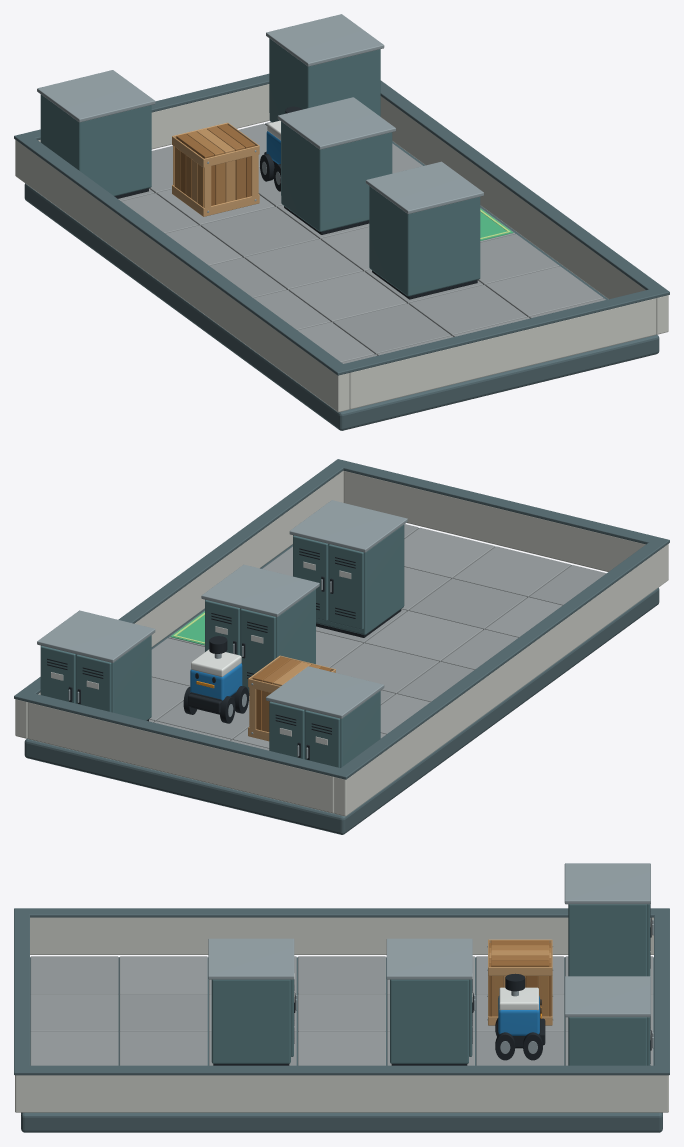
3 views of the same model, one above another, from view 1: azimuth 30°, elevation 25°; view 2: azimuth 150°, elevation 25°; view 3: azimuth 270°, elevation 25° (orthographic).
Visible parts, largest first — view 1: obstacle_1, Cutaway wall, Floor foundation, obstacle_2, Cutaway wall.002, obstacle_0, obstacle_3, Cutaway wall.001, crate, Wall coping, Wall coping.001, Cutaway wall.003 (+18 smaller); view 2: Cutaway wall, Floor foundation, obstacle_1, Cutaway wall.003, Cutaway wall.002, obstacle_3, obstacle_2, obstacle_0, Cutaway wall.001, Wall coping, Wall coping.001, agent (+19 smaller); view 3: Cutaway wall.001, Cutaway wall, Floor foundation, obstacle_1, obstacle_2, obstacle_0, obstacle_3, Wall coping.001, Wall coping, crate, agent, Tile_0_1 (+13 smaller).
Boxes of the visible parts, <box> form: obstacle_1: <box>365,161,483,299</box>; Cutaway wall: <box>15,140,349,412</box>; Floor foundation: <box>24,124,659,430</box>; obstacle_2: <box>277,97,395,234</box>; Cutaway wall.002: <box>349,298,656,409</box>; obstacle_0: <box>37,70,155,198</box>; obstacle_3: <box>266,14,384,122</box>; Cutaway wall.001: <box>380,96,668,334</box>; crate: <box>172,122,259,216</box>; Wall coping: <box>14,133,350,375</box>; Wall coping.001: <box>380,80,669,297</box>; Cutaway wall.003: <box>38,84,269,149</box>; Cutaway wall: <box>334,544,668,816</box>; Floor foundation: <box>24,528,659,834</box>; obstacle_1: <box>289,500,407,637</box>; Cutaway wall.003: <box>27,702,334,813</box>; Cutaway wall.002: <box>343,471,645,571</box>; obstacle_3: <box>37,610,155,721</box>; obstacle_2: <box>201,564,319,695</box>; obstacle_0: <box>266,666,384,767</box>; Cutaway wall.001: <box>15,471,343,738</box>; Wall coping: <box>333,537,669,779</box>; Wall coping.001: <box>14,459,349,701</box>; agent: <box>183,636,248,723</box>; Cutaway wall.001: <box>15,1075,668,1112</box>; Cutaway wall: <box>30,917,653,954</box>; Floor foundation: <box>21,957,662,1132</box>; obstacle_1: <box>208,938,297,1065</box>; obstacle_2: <box>386,938,475,1065</box>; obstacle_0: <box>564,863,653,976</box>; obstacle_3: <box>564,976,653,1065</box>; Wall coping.001: <box>14,1065,669,1075</box>; Wall coping: <box>14,908,669,917</box>; crate: <box>487,939,553,1025</box>; agent: <box>495,973,545,1060</box>; Tile_0_1: <box>119,956,207,994</box>.
Bounding box in the file's own units: 4.36 × 1.44 × 7.36.
